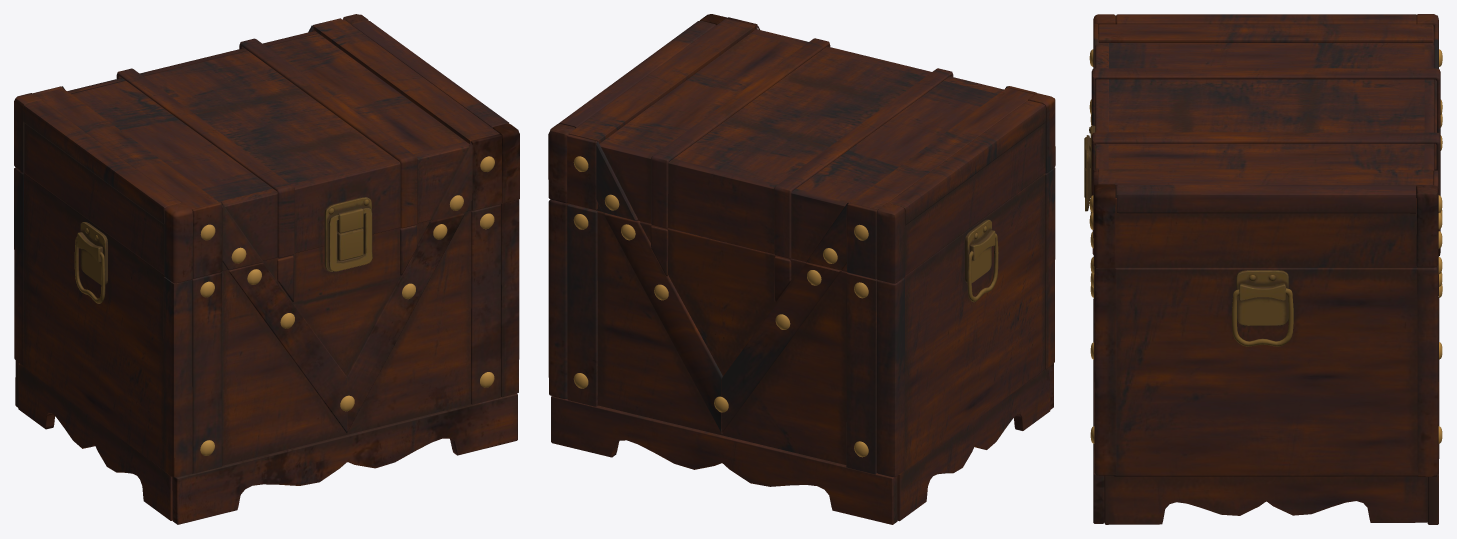
File: itemBox.fbx
The picture shows the model from 3 angles, left to right: view 1: azimuth 30°, elevation 25°; view 2: azimuth 150°, elevation 25°; view 3: azimuth 270°, elevation 25°; orthographic projection. The views are drawn at different scales.
Visible parts, largest first — view 1: ItemBox; view 2: ItemBox; view 3: ItemBox.
Boxes of the visible parts, x1=… form: ItemBox: x1=14, y1=14, x2=519, y2=524; ItemBox: x1=548, y1=14, x2=1055, y2=524; ItemBox: x1=1084, y1=14, x2=1442, y2=524.
Bounding box in the file's own units: 119 × 98.06 × 95.28.
